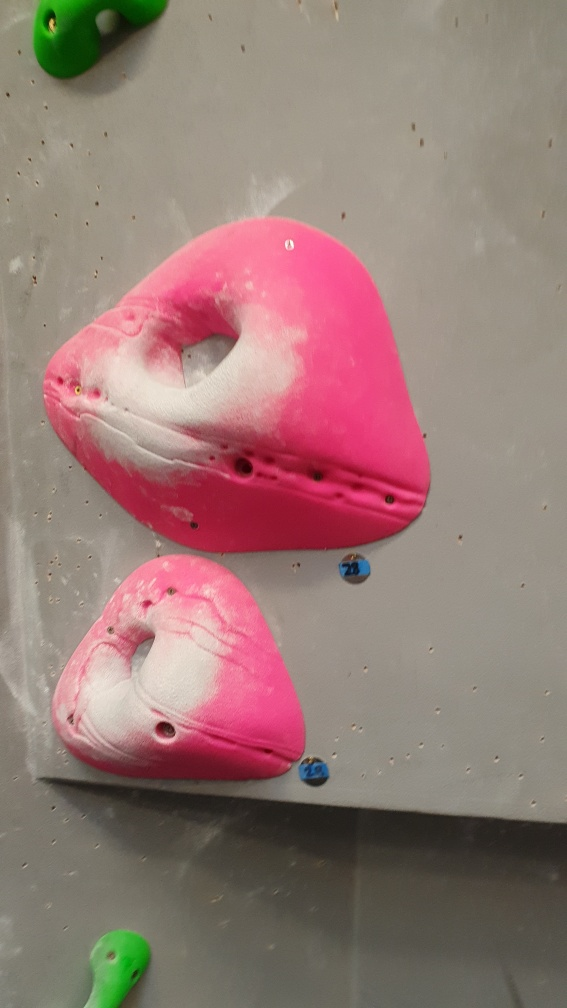Hand Start: (338, 550, 371, 587), (299, 754, 331, 789)
Pocket: (37, 215, 434, 553), (52, 553, 307, 782)
